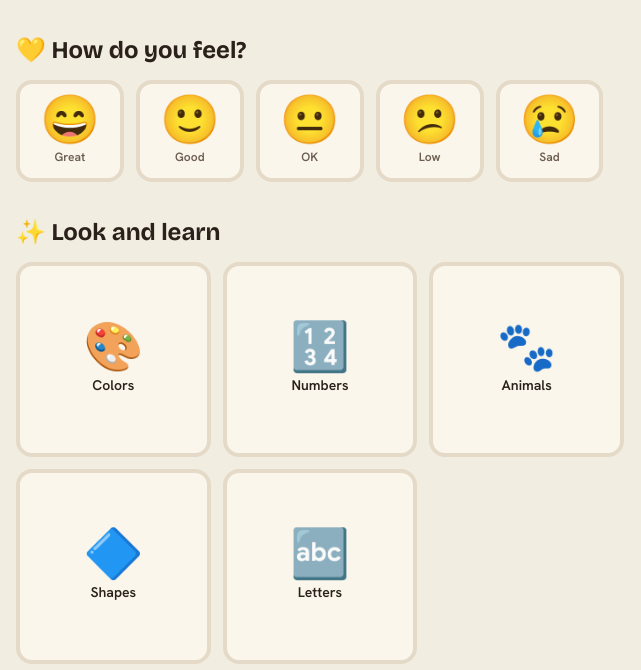
Scenario: KidsBoard › opens a category grid when a tile is tapped
(page scrolled)
Click the button "🎨 Colors": coordinates (113, 360) [16, 262, 211, 457]
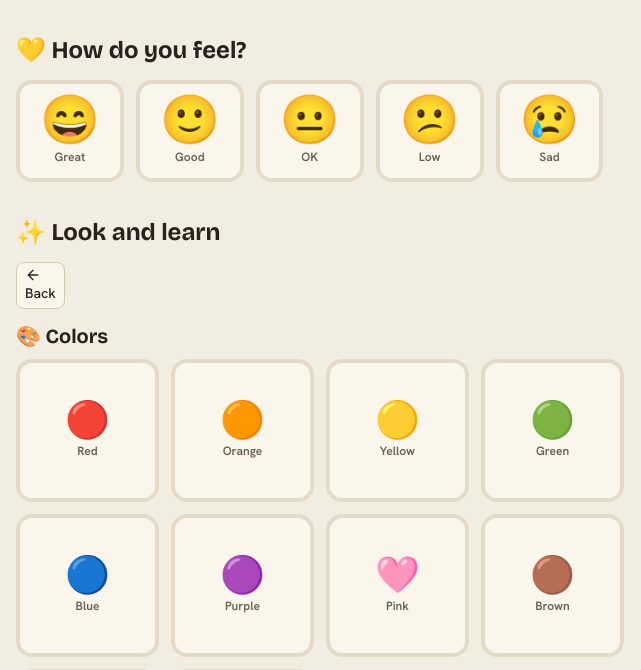
Result: the button "Back" is shown at [16, 262, 65, 309]
